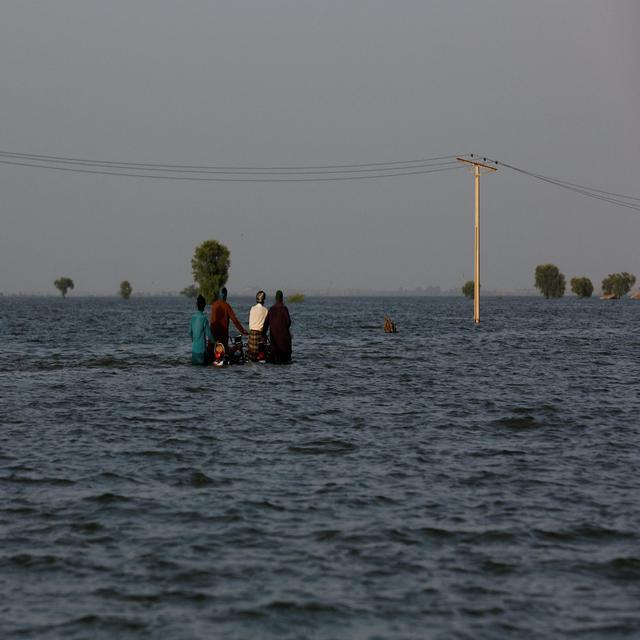Person-RiskLevel3: (212, 281, 240, 377), (184, 286, 211, 369), (241, 288, 269, 364), (266, 287, 289, 371)
